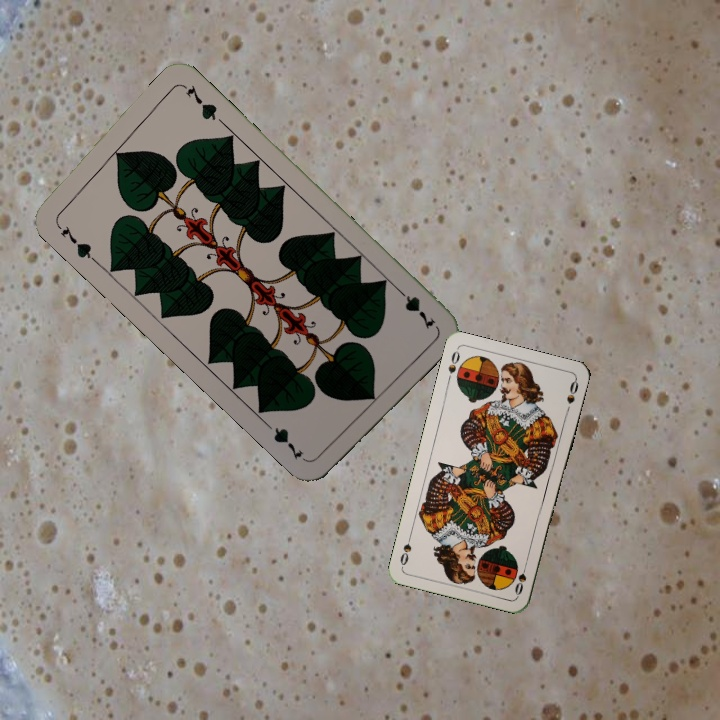G7: (391, 282, 439, 332), (52, 218, 98, 264)
SO: (511, 558, 530, 598), (443, 347, 462, 386)
